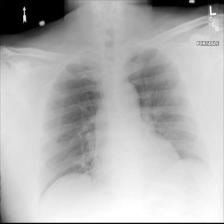normal: (37, 45, 210, 199)
